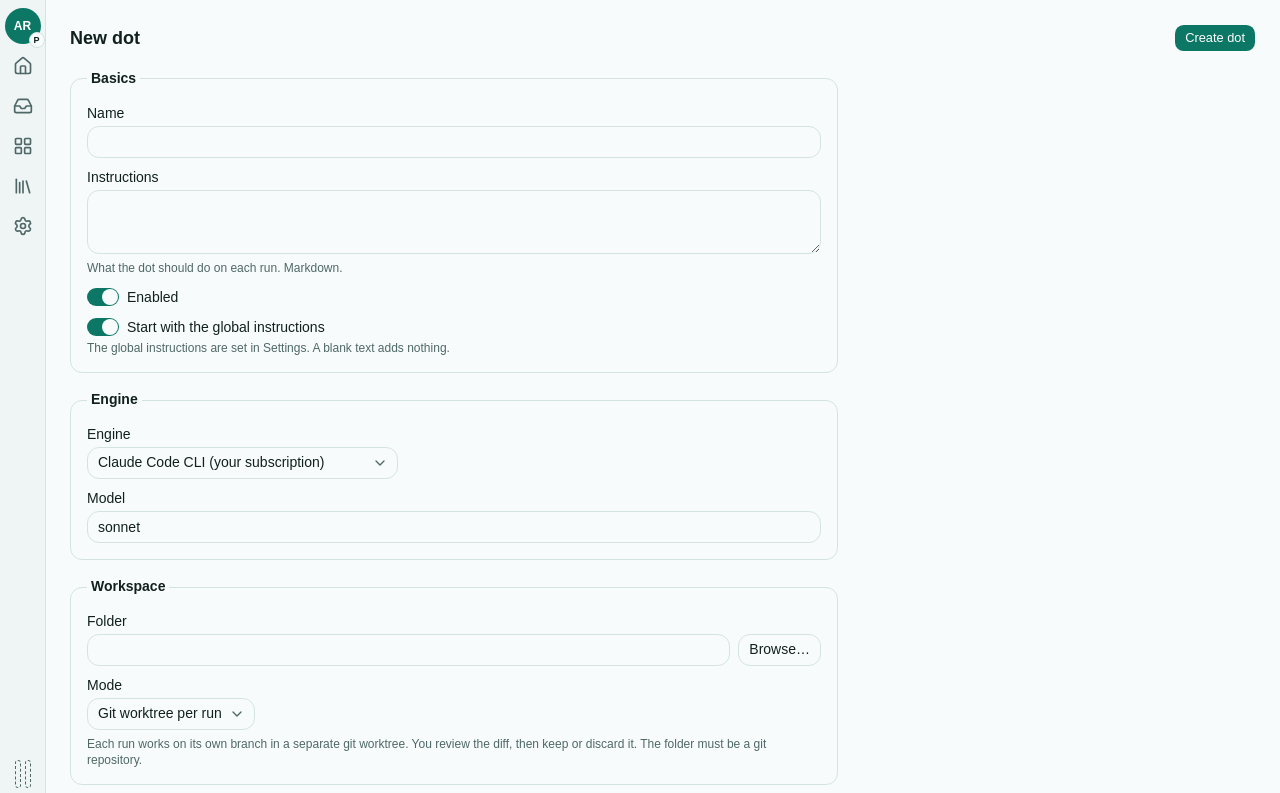
Test: the dot editor, new dot › creates a dot from the core's defaults and what was typed
The image size is (1280, 793).
Type "nightly" into the field labelled "Name".
click(454, 142); type("nightly")  # box x1=87 y1=126 x2=821 y2=158
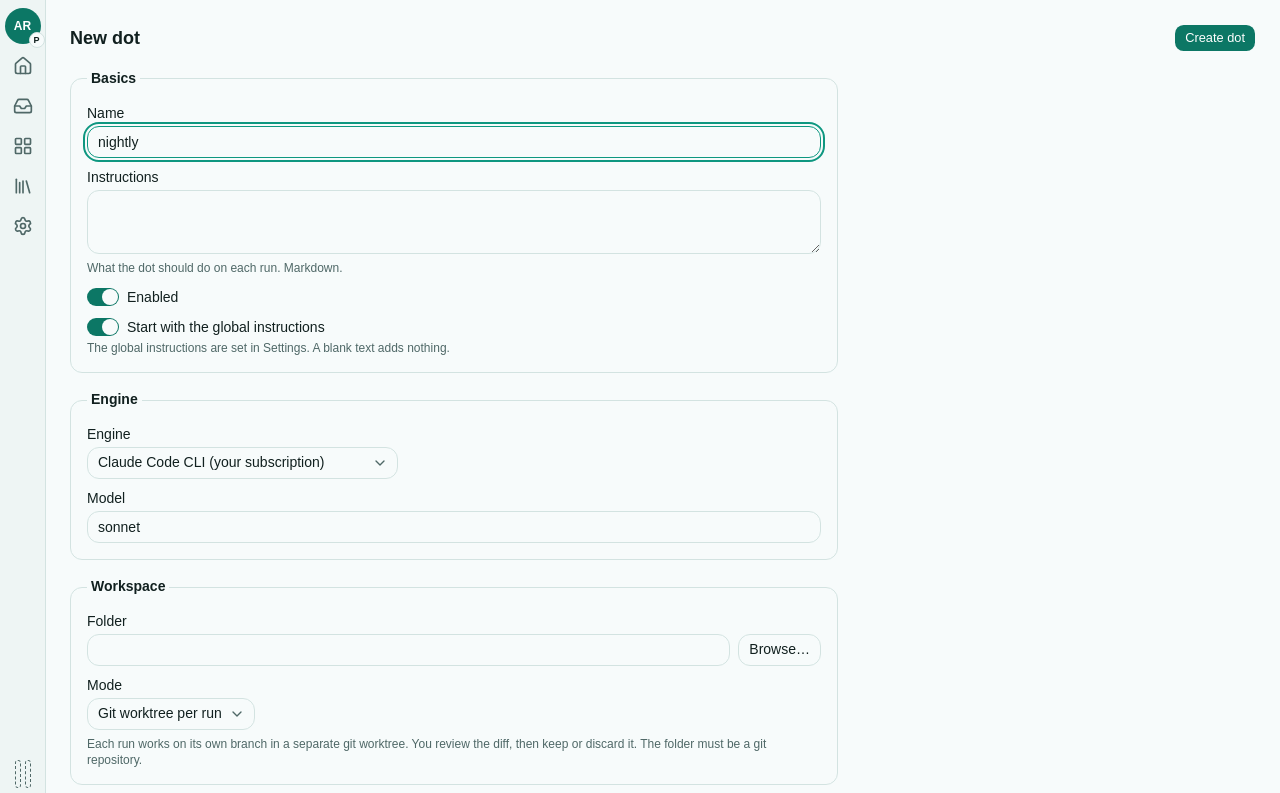
Type "Run the tests." into the text box labelled "Instructions".
click(454, 222); type("Run the tests.")  # box x1=87 y1=190 x2=821 y2=254
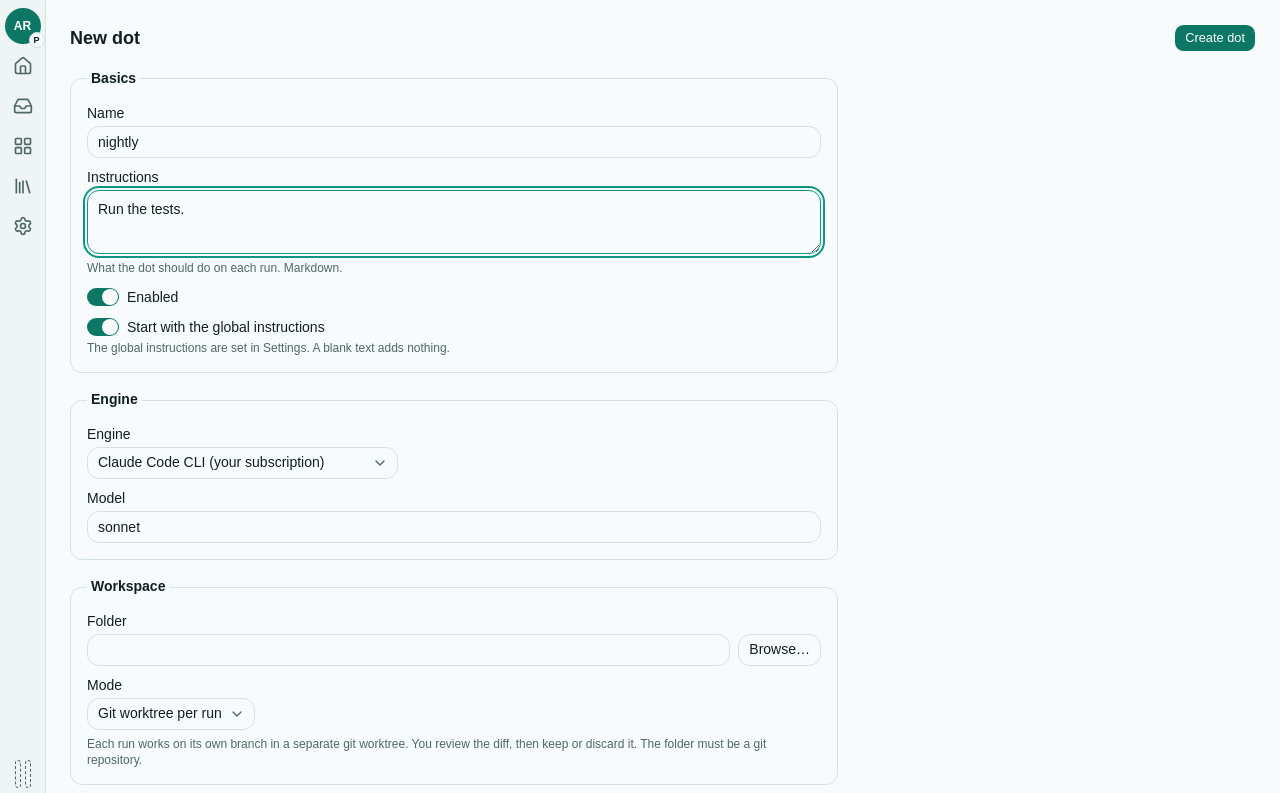
Type "C:/dev/app" into the field labelled "Folder".
click(409, 650); type("C:/dev/app")  # box x1=87 y1=634 x2=730 y2=666
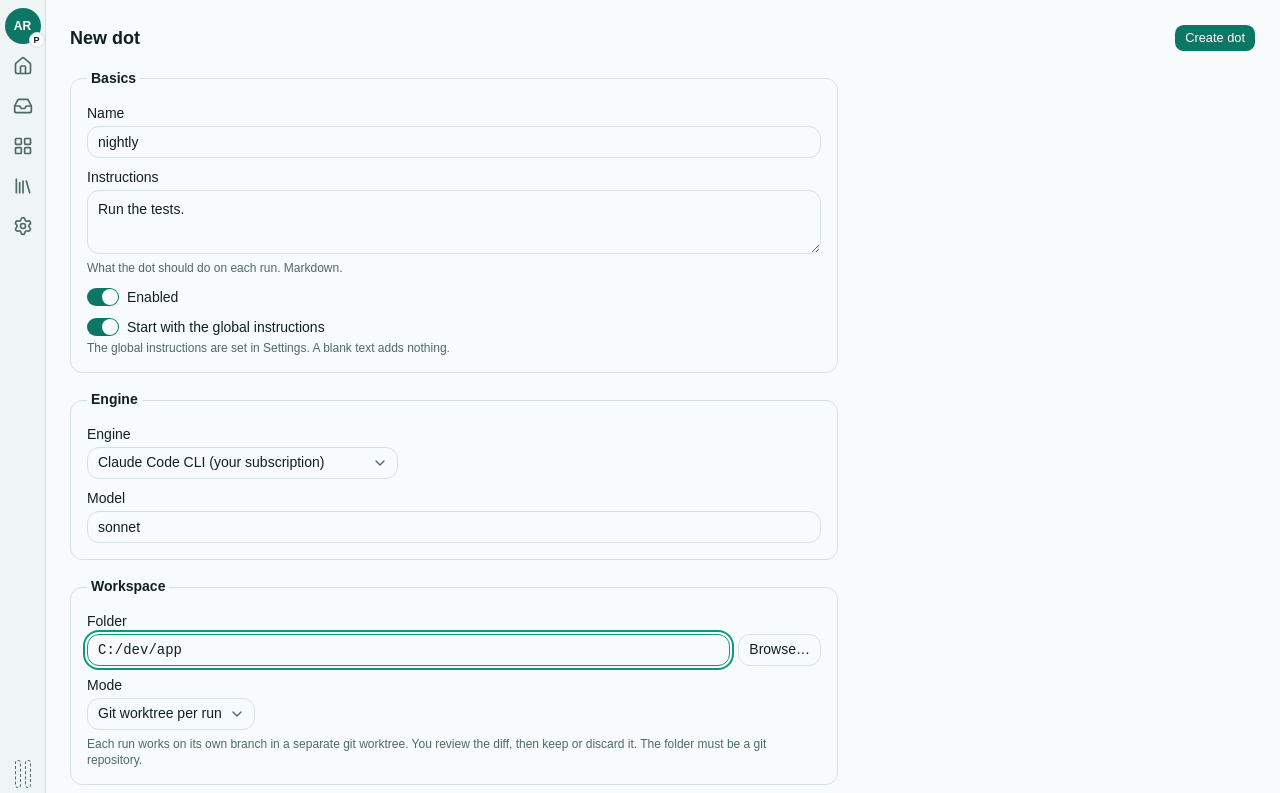
Click the button "Create dot".
click(1215, 38)  # box x1=1174 y1=24 x2=1256 y2=52
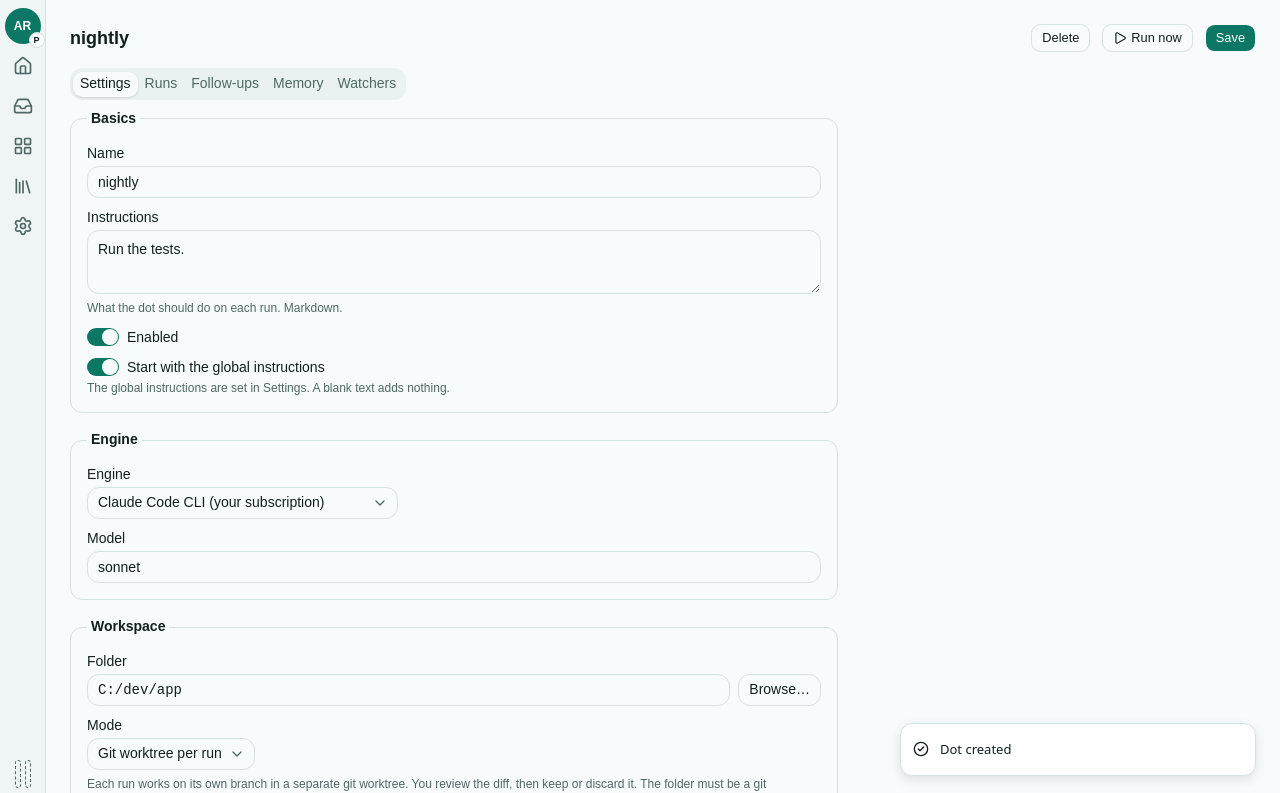
Result: the text "Dot created" is shown at x1=940 y1=740 x2=1011 y2=759
